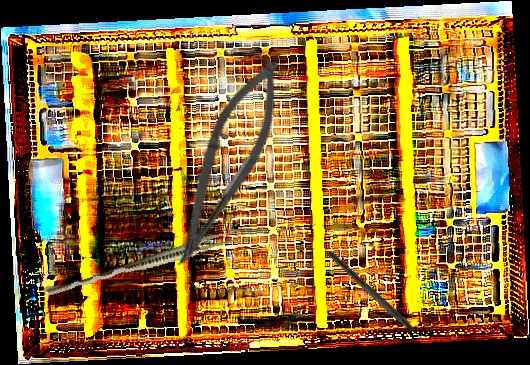Chopper: (319, 249, 435, 355)
Micro Scissor: (162, 49, 295, 280)
Tissue Forceps: (42, 225, 240, 304)
